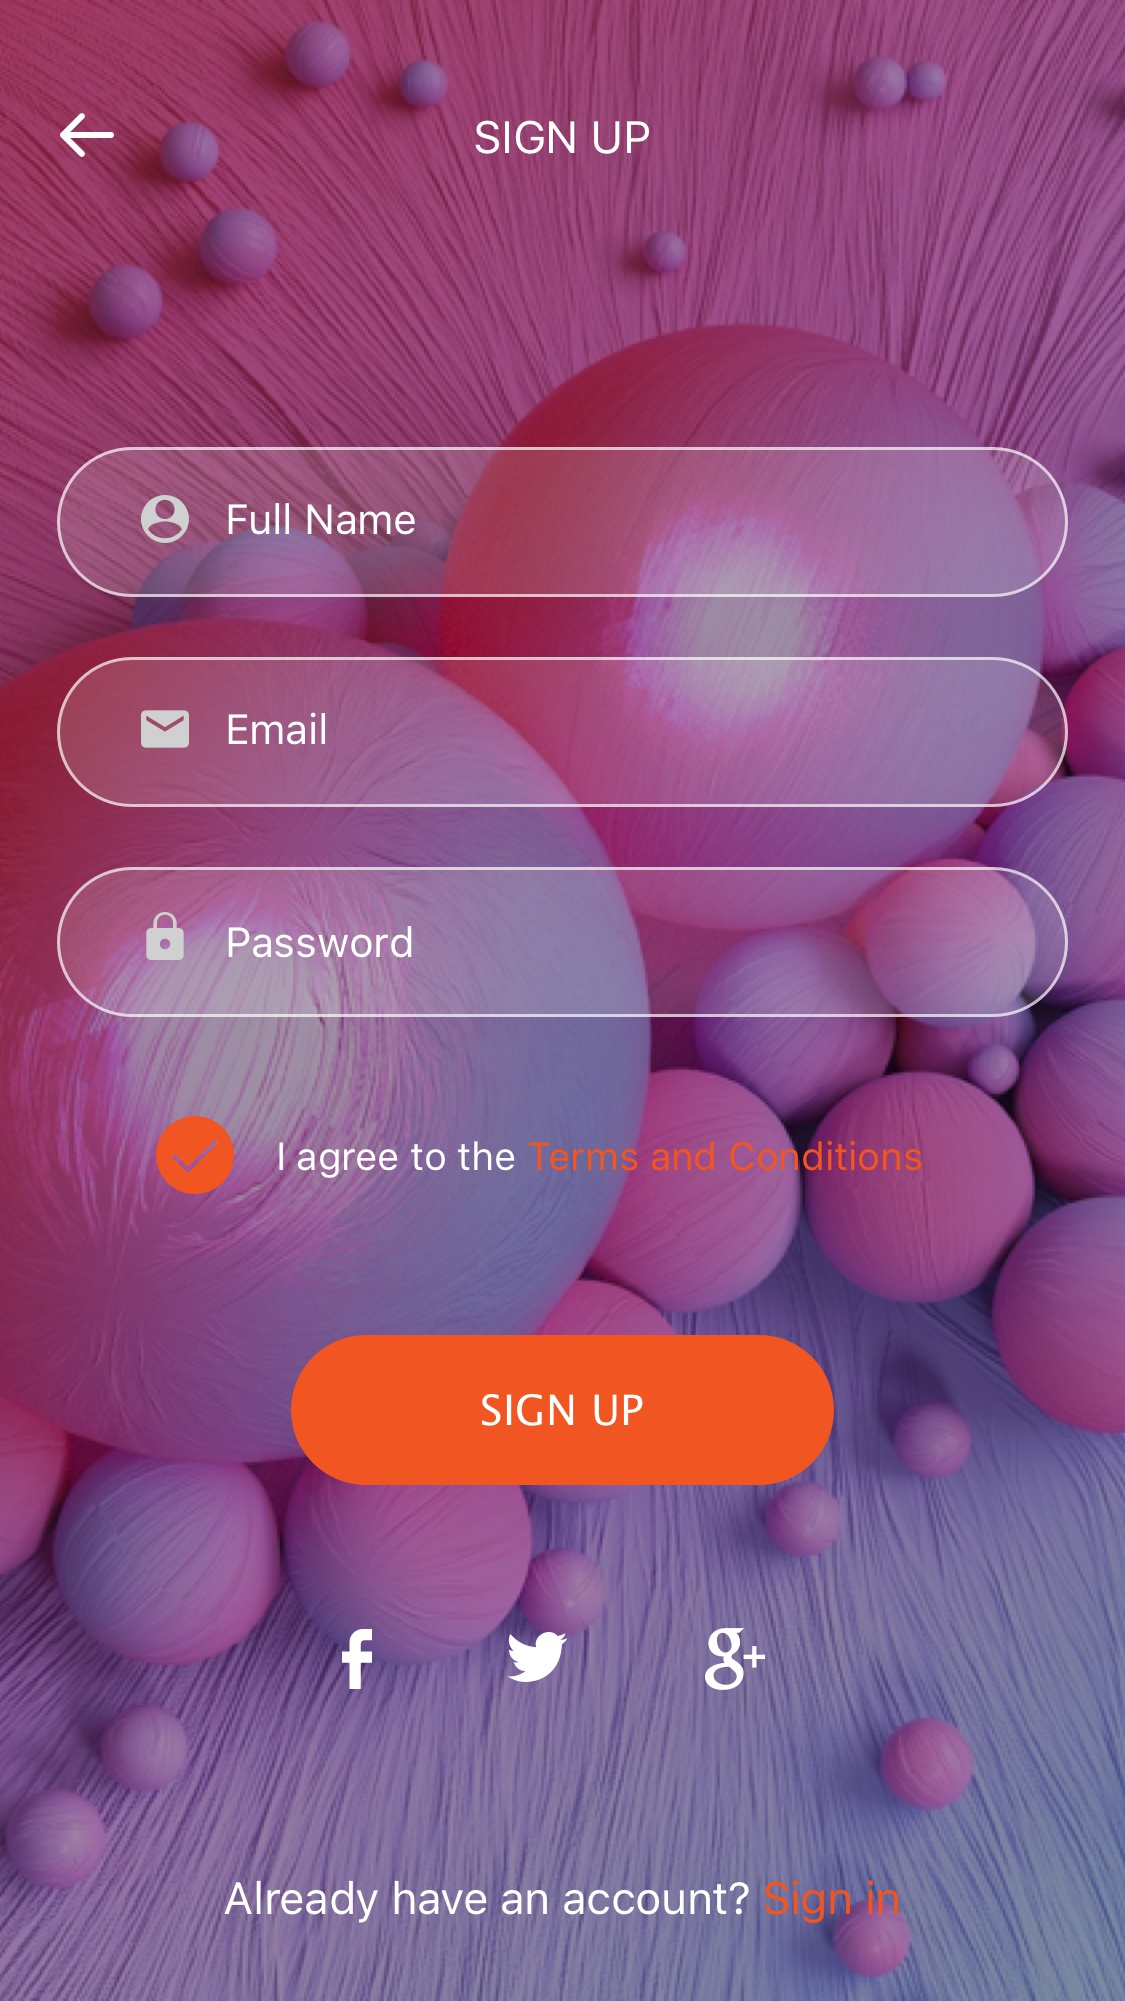BackgroundImage: (1, 1, 1125, 2001)
CheckedTextView: (157, 1115, 924, 1196)
EditText: (56, 447, 1069, 598), (56, 657, 1069, 808), (56, 867, 1069, 1018)
Icon: (705, 1627, 766, 1692), (507, 1631, 569, 1684), (60, 113, 115, 159), (141, 495, 191, 546), (342, 1629, 374, 1690), (146, 913, 185, 961), (141, 711, 190, 749)
Text: (224, 1879, 898, 1924), (277, 1139, 924, 1181), (475, 120, 650, 157), (228, 503, 416, 536), (228, 928, 413, 959), (228, 712, 327, 746)
TextButton: (290, 1334, 835, 1486)
